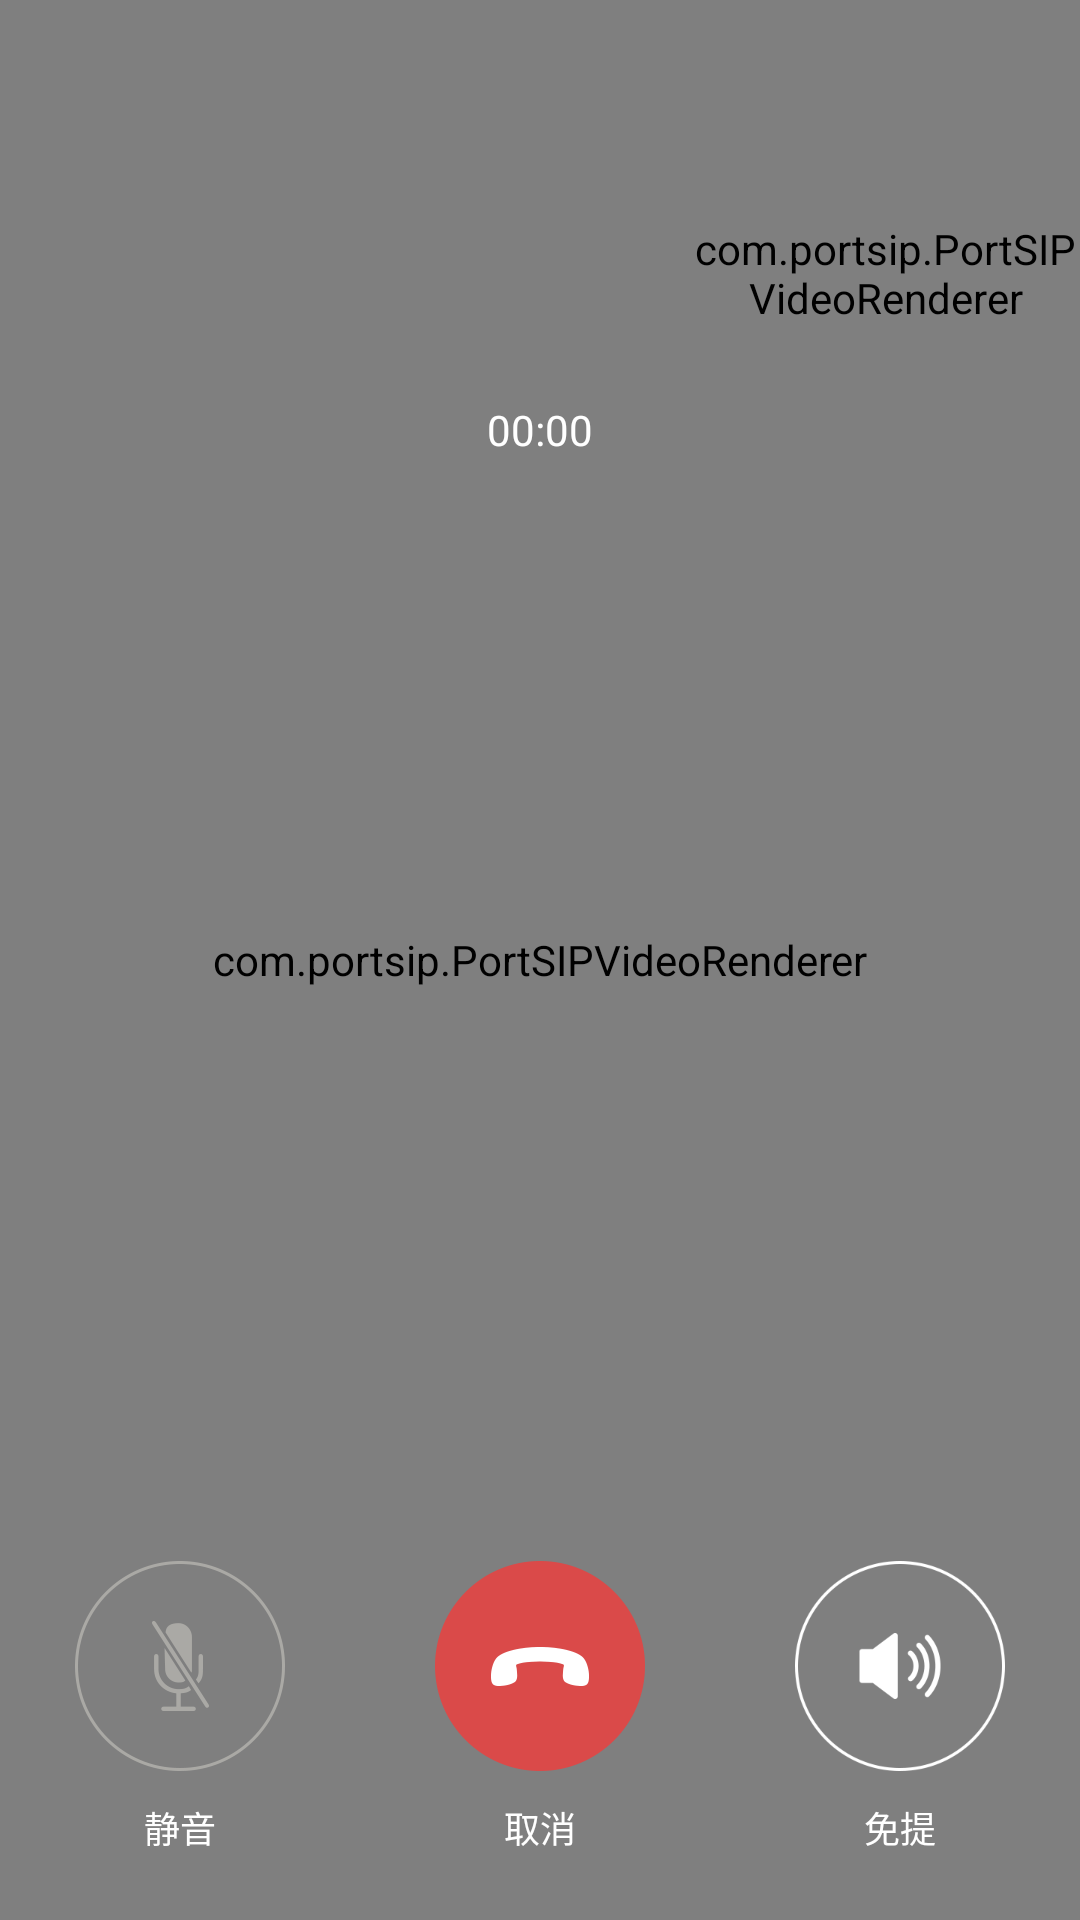

Locate icon controls on the screen. Image size 1080 x 1920, boxes as [x1,y1,x2,y2].
guaduan: [435,1561,645,1771]
